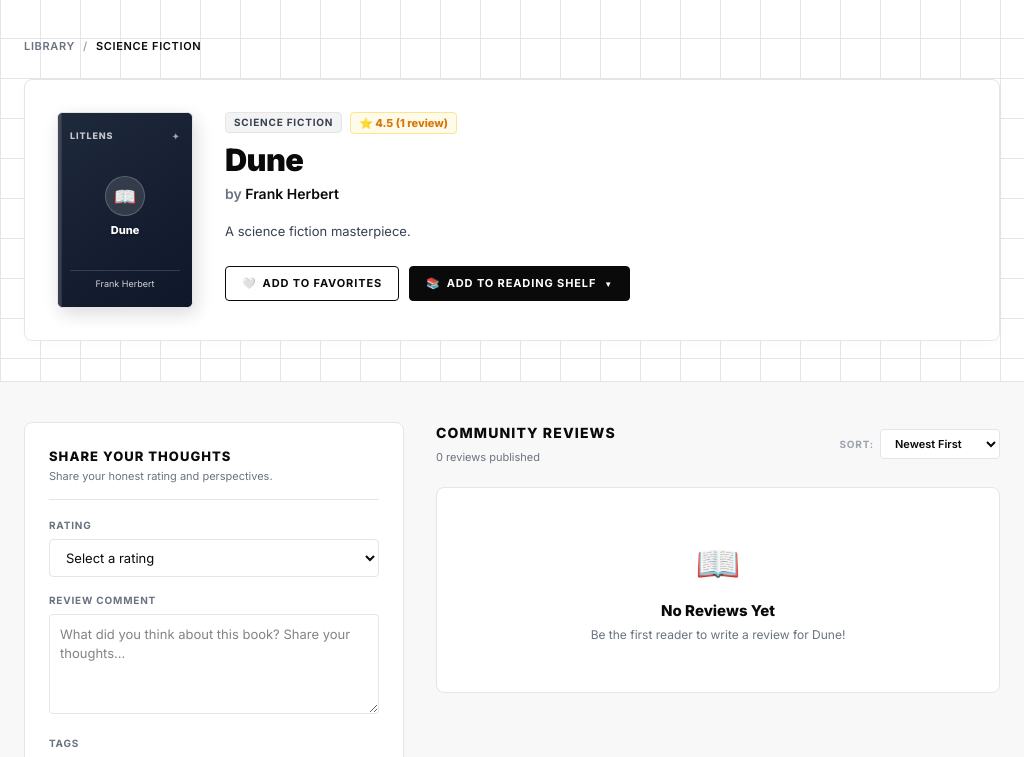
Test: BookDetails — ReviewForm › submits the form and shows success toast
Expected: the heading "Share Your Thoughts" is shown, 49,448 -> 231,464
// Select rating
Select "5 - Excellent (⭐⭐⭐⭐⭐)" in the dropdown showing "Select a rating": (214,558) 49,538 -> 379,576
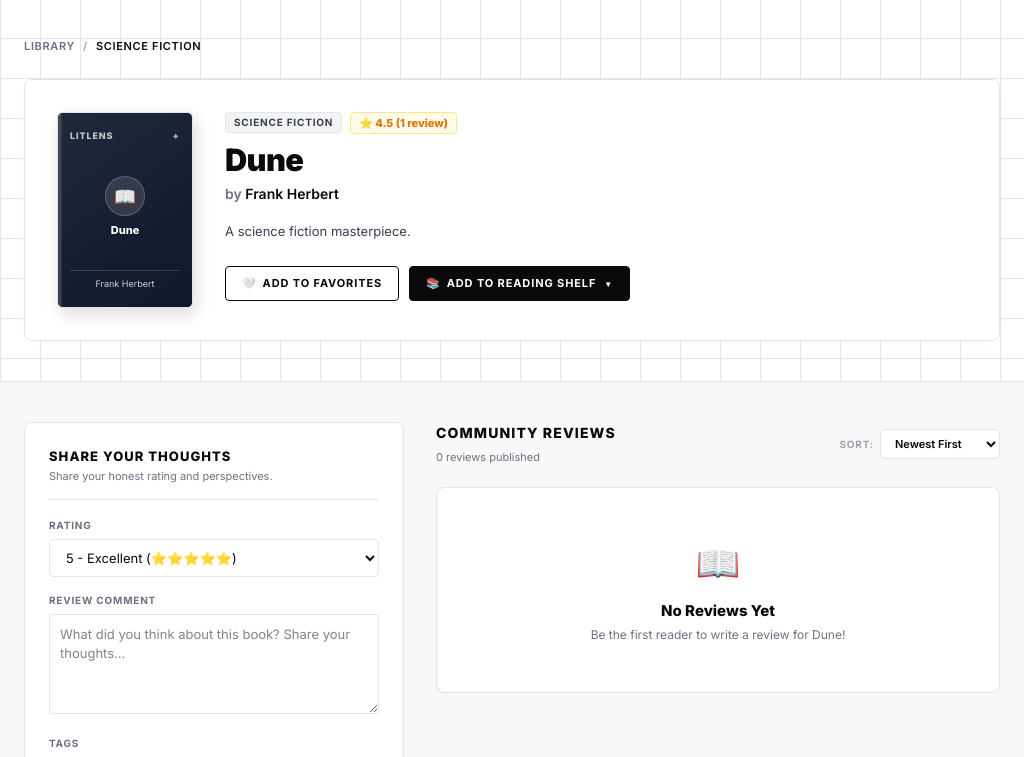
// Type comment
In the text box with placeholder "What did you think about this book? Share your thoughts...": (214,664) 49,614 -> 379,714, type "An absolute masterpiece!"
(page scrolled)
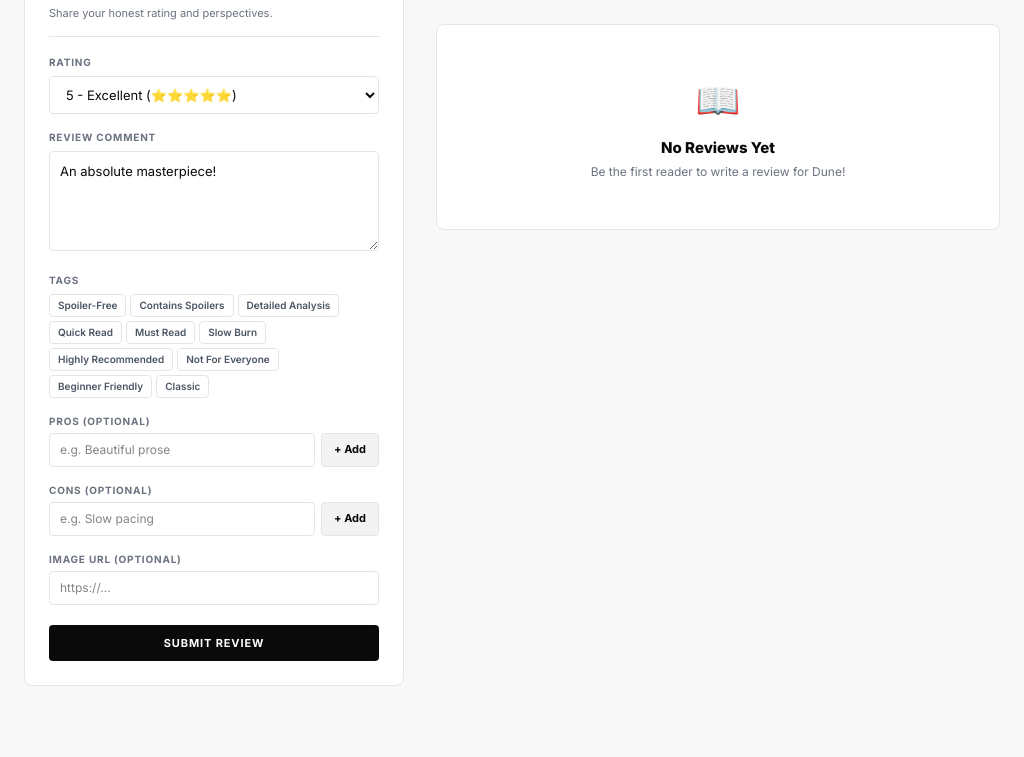
Click the button "Submit Review": (214,643) 49,624 -> 379,661
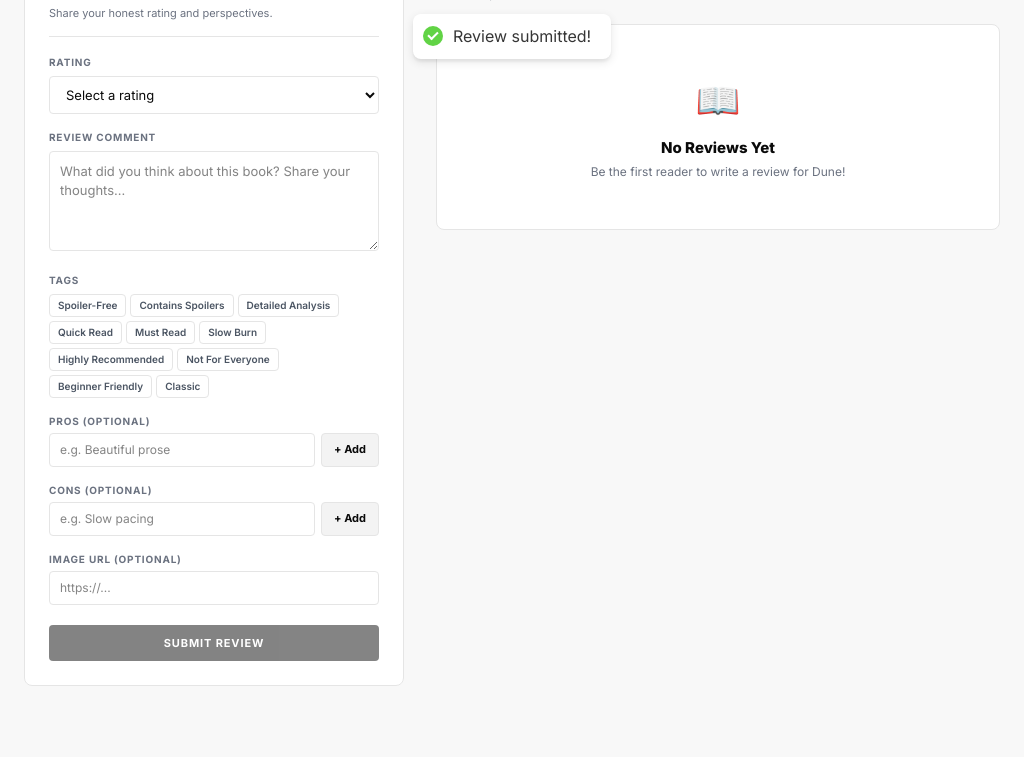
Expected: the text "Review submitted!" is shown, 453,26 -> 591,47
